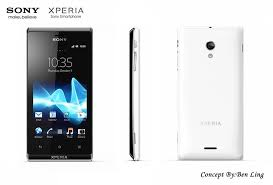sony: (23, 20, 95, 163), (173, 24, 245, 167)
